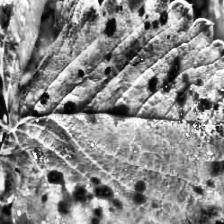Leaf Spot: (0, 0, 224, 224), (0, 0, 59, 121)
